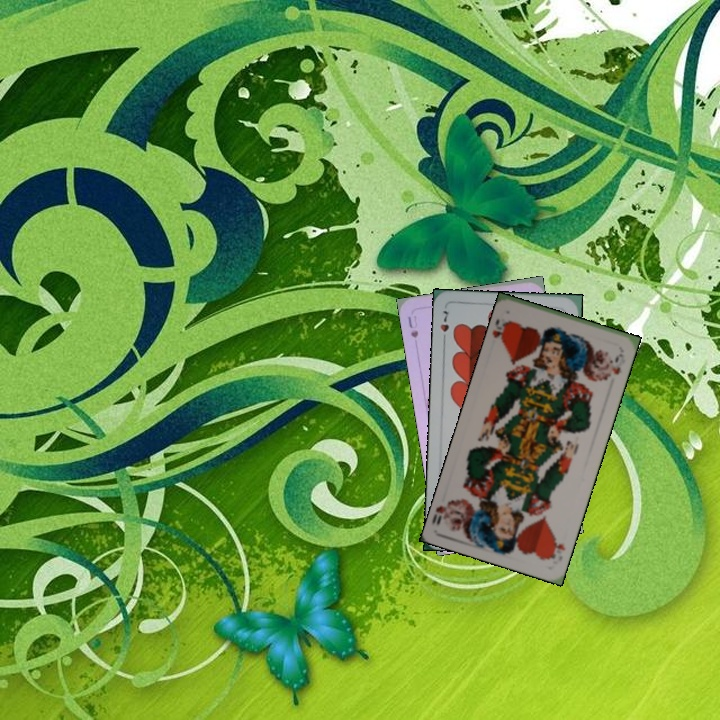H7: (436, 307, 451, 345)
HO: (489, 315, 514, 348), (544, 534, 568, 562)
SU: (404, 311, 421, 340)
